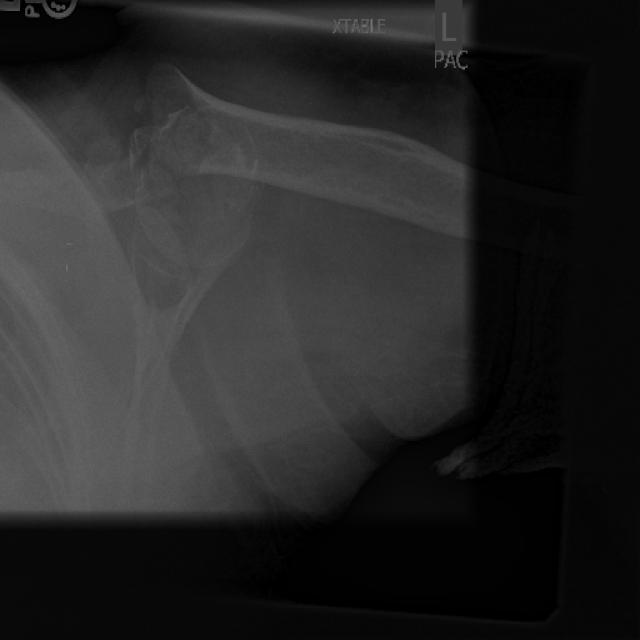shoulder fracture: (111, 99, 211, 192), (319, 104, 436, 177)
